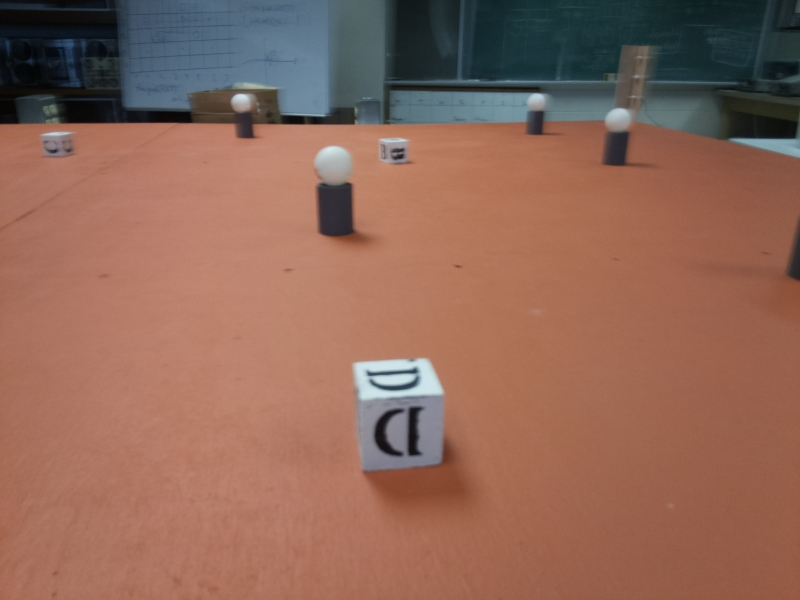blockB: (380, 135, 413, 166)
blockC: (43, 125, 73, 164)
blockD: (355, 349, 453, 470)
corner: (620, 46, 649, 105)
obstacle: (321, 145, 353, 239), (603, 111, 633, 164), (522, 93, 547, 139), (231, 92, 253, 140)
